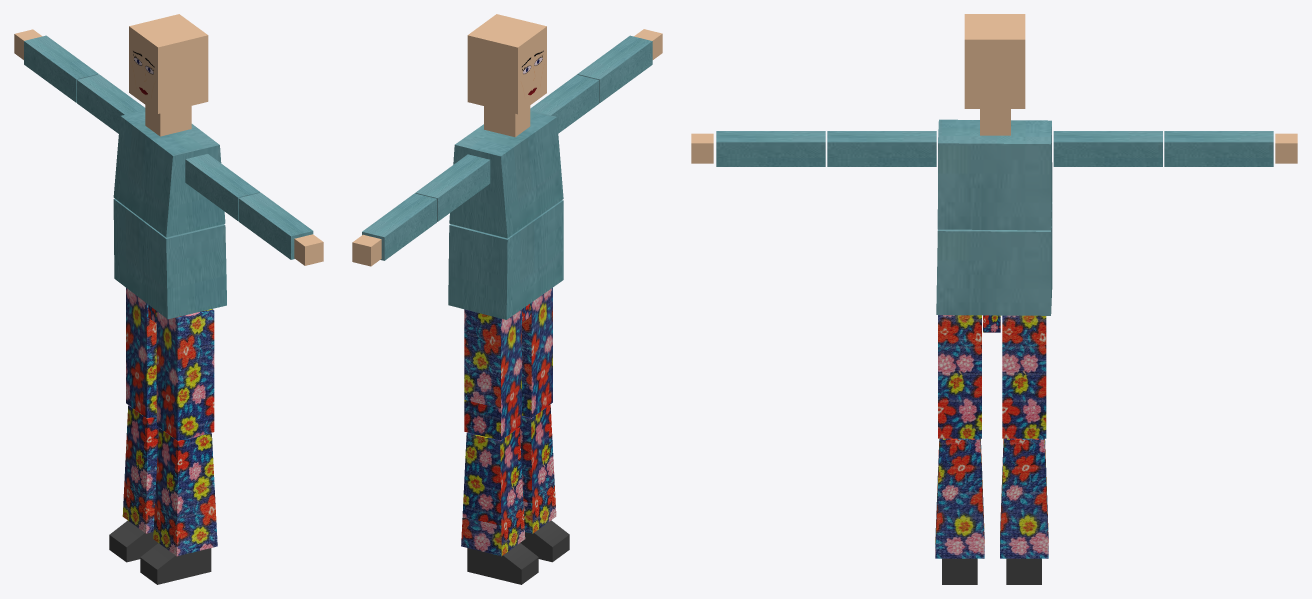
File: karakter3_1.fbx
3 renders of one model, left to right at view 1: azimuth 30°, elevation 25°; view 2: azimuth 150°, elevation 25°; view 3: azimuth 270°, elevation 25°, orthographic. The views are drawn at different scales.
Parts seen in each view (by area): view 1: pCube30, pCube8, pCube5, pCube22, pCube6, pCube28, pCube27, pCube23, pCube9, pCube25, pCube24, pCube14 (+3 smaller); view 2: pCube30, pCube8, pCube27, pCube28, pCube6, pCube22, pCube5, pCube25, pCube23, pCube24, pCube9, pCube29 (+4 smaller); view 3: pCube8, pCube30, pCube6, pCube22, pCube28, pCube27, pCube5, pCube9, pCube23, pCube24, pCube25, pCube14 (+2 smaller).
Boxes of the visible parts, left/top/right/bottom form: pCube30: left=113, top=198, right=226, bottom=319; pCube8: left=113, top=110, right=225, bottom=237; pCube5: left=156, top=309, right=214, bottom=440; pCube22: left=153, top=427, right=217, bottom=556; pCube6: left=129, top=14, right=208, bottom=113; pCube28: left=122, top=405, right=158, bottom=533; pCube27: left=126, top=288, right=156, bottom=418; pCube23: left=238, top=192, right=313, bottom=259; pCube9: left=185, top=154, right=260, bottom=220; pCube25: left=24, top=35, right=98, bottom=102; pCube24: left=77, top=74, right=145, bottom=133; pCube14: left=140, top=543, right=211, bottom=584; pCube30: left=448, top=200, right=563, bottom=319; pCube8: left=449, top=110, right=563, bottom=238; pCube27: left=464, top=309, right=521, bottom=440; pCube28: left=461, top=427, right=525, bottom=556; pCube6: left=467, top=14, right=546, bottom=114; pCube22: left=519, top=404, right=556, bottom=533; pCube5: left=522, top=288, right=552, bottom=417; pCube25: left=362, top=193, right=436, bottom=260; pCube23: left=577, top=35, right=652, bottom=102; pCube24: left=415, top=154, right=490, bottom=221; pCube9: left=530, top=74, right=599, bottom=133; pCube29: left=467, top=543, right=538, bottom=584; pCube8: left=937, top=119, right=1052, bottom=230; pCube30: left=936, top=202, right=1052, bottom=315; pCube6: left=964, top=14, right=1025, bottom=108; pCube22: left=935, top=438, right=984, bottom=558; pCube28: left=1000, top=438, right=1048, bottom=558; pCube27: left=1002, top=315, right=1046, bottom=438; pCube5: left=938, top=315, right=981, bottom=438; pCube9: left=827, top=131, right=936, bottom=166; pCube23: left=716, top=131, right=825, bottom=166; pCube24: left=1053, top=131, right=1162, bottom=166; pCube25: left=1164, top=131, right=1273, bottom=166; pCube14: left=942, top=558, right=977, bottom=584.
Bounding box in the file's own units: 4.39 × 32.13 × 32.12.
Materials: 4 (3 with a texture image).
